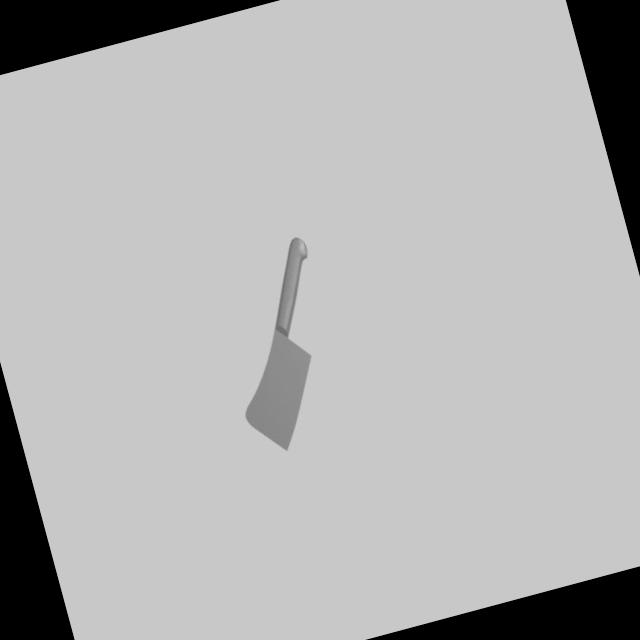knife: (253, 236, 328, 340)
